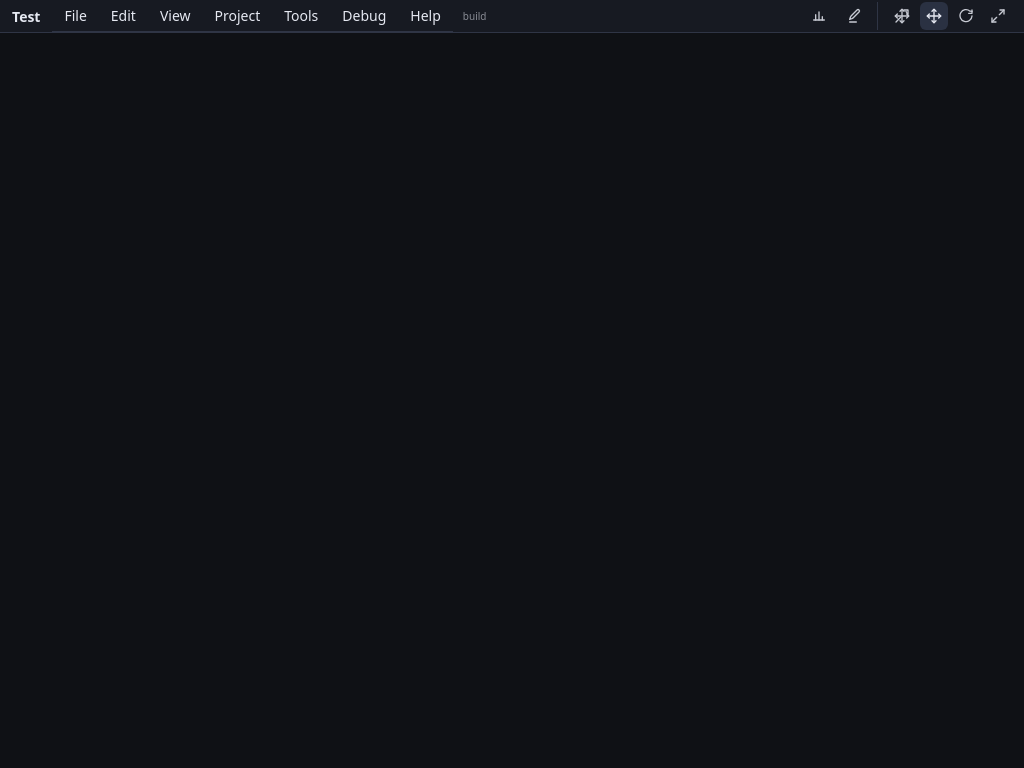
Scenario: BuilderHeader texture brush color › selects paint mode and opens popover when brush is clicked from another gizmo
Click the button named "Brush tool" at [853, 16], box [839, 2, 867, 30]
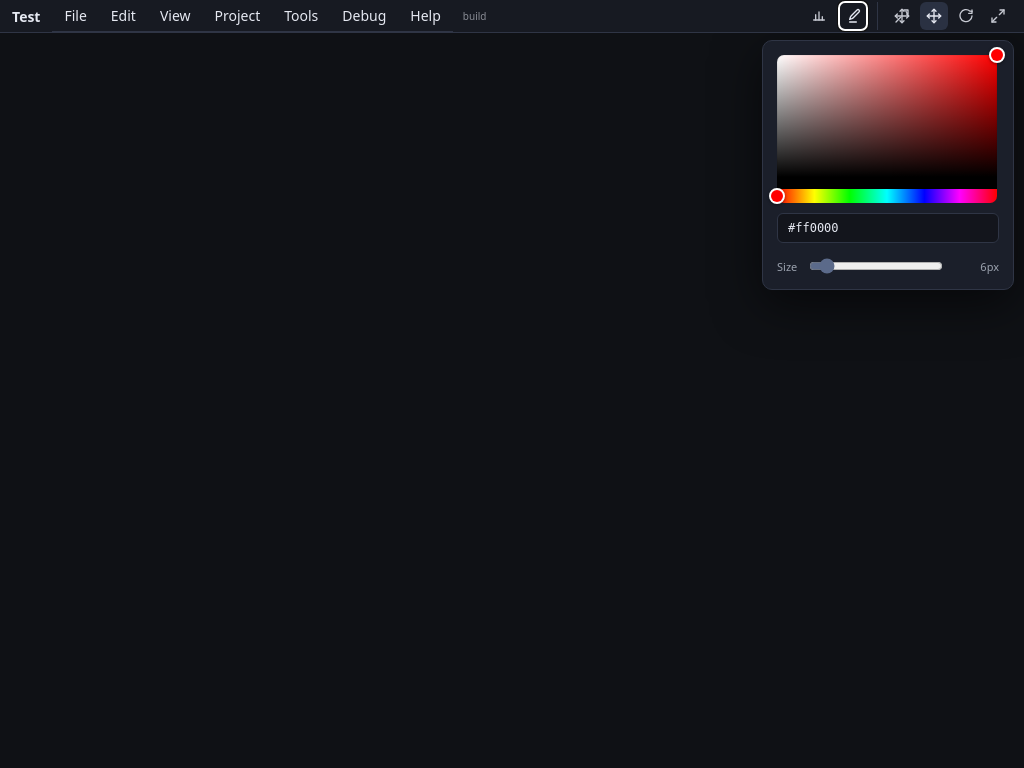
Expected: the dialog with test id "brush-tool-popover" is shown, [762, 40, 1014, 290]
